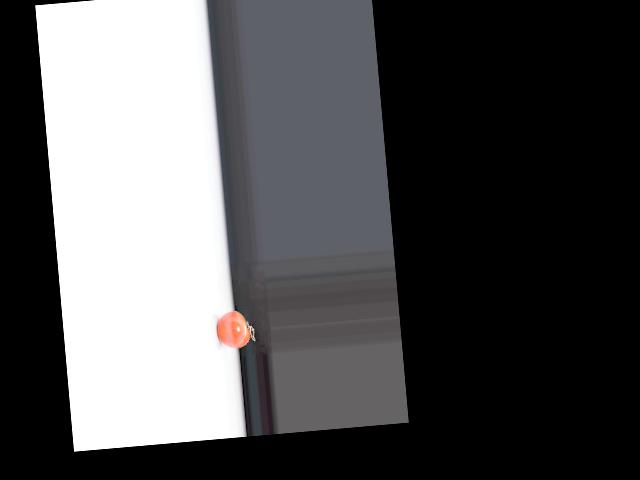tomato: (215, 309, 251, 349)
